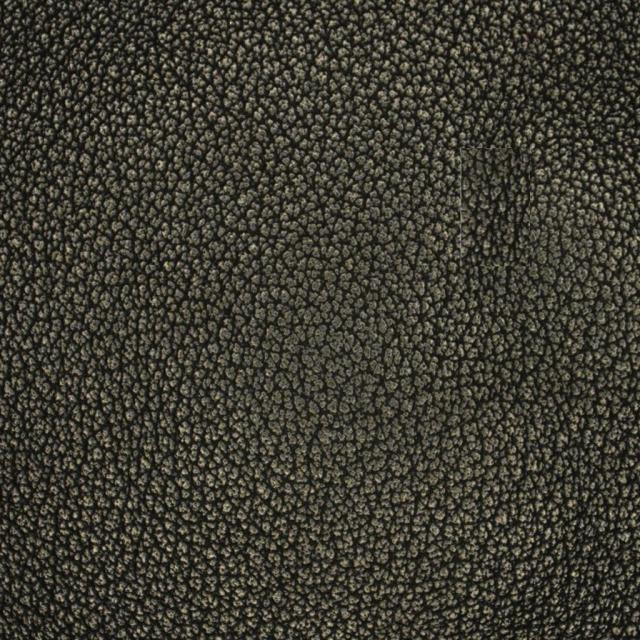Healed Injury: (454, 71, 594, 362)
